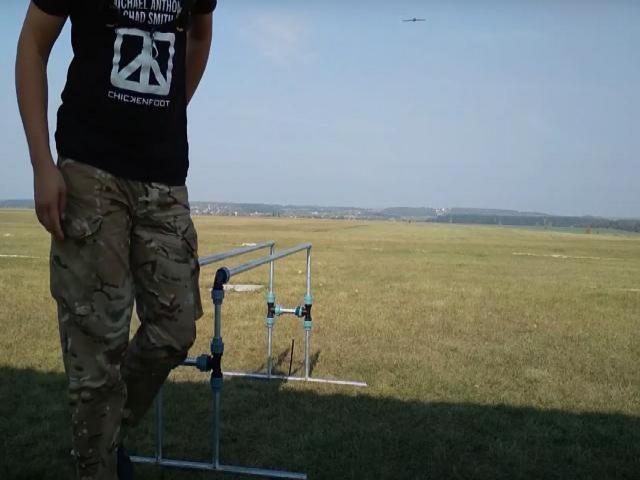iha: (402, 18, 425, 22)
